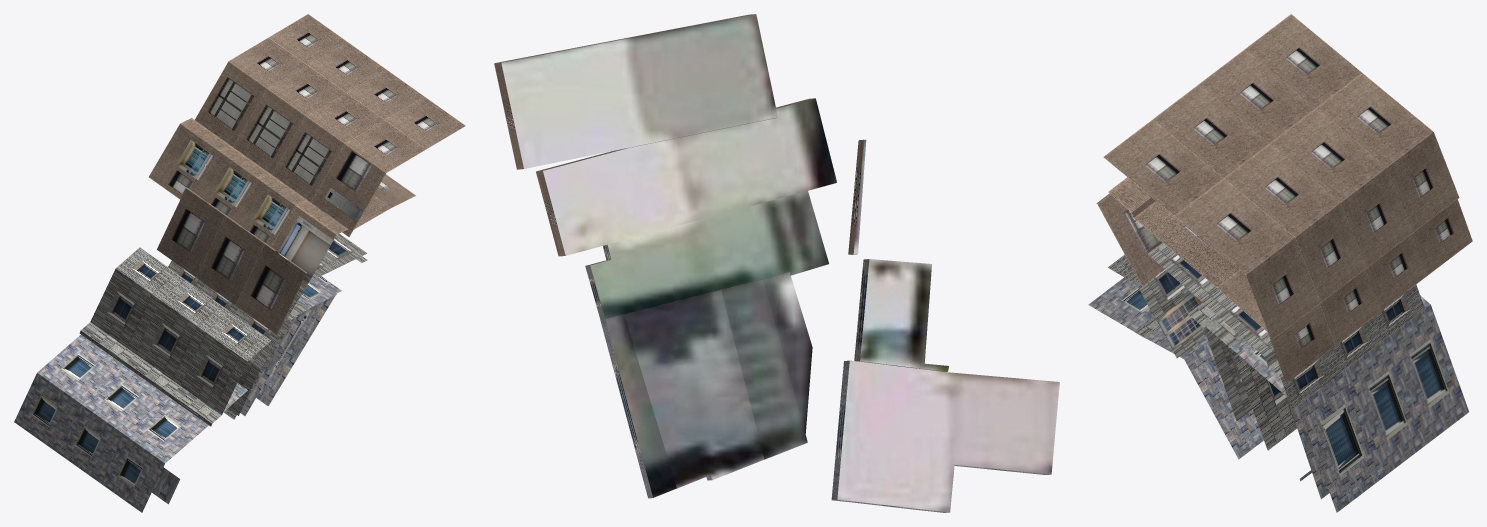
3 renders of one model, left to right at view 1: azimuth 30°, elevation 25°; view 2: azimuth 150°, elevation 25°; view 3: azimuth 270°, elevation 25°, orthographic. The views are drawn at different scales.
Size of the model in its own units: 32.24 by 27.19 by 19.81.
37 materials, 37 textured.
